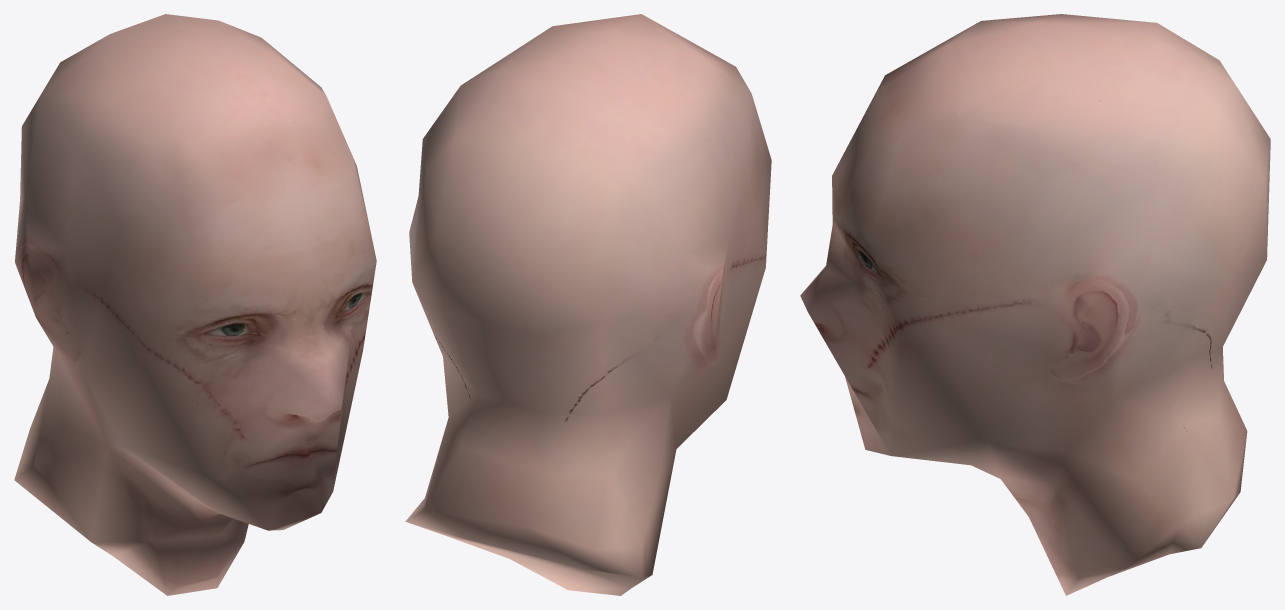
Rendered from head_200.glb.
The picture shows the model from 3 angles, left to right: view 1: azimuth 30°, elevation 25°; view 2: azimuth 150°, elevation 25°; view 3: azimuth 270°, elevation 25°; orthographic projection.
Parts seen in each view (by area): view 1: Mesh1.0; view 2: Mesh1.0; view 3: Mesh1.0.
Boxes of the visible parts, left/top/right/bottom form: Mesh1.0: left=14, top=14, right=376, bottom=595; Mesh1.0: left=405, top=14, right=771, bottom=595; Mesh1.0: left=800, top=14, right=1270, bottom=595.
Bounding box in the file's own units: 1.07 × 1.89 × 1.45.
Materials: 1 (1 with a texture image).
